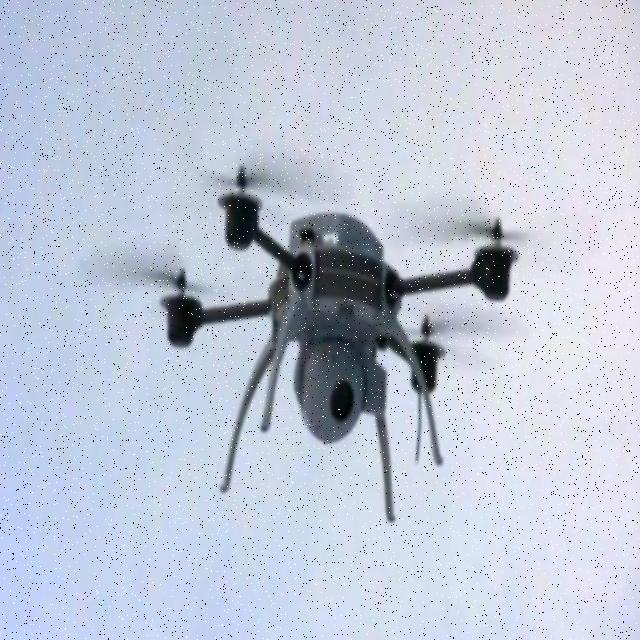UAV: (161, 162, 517, 522)
